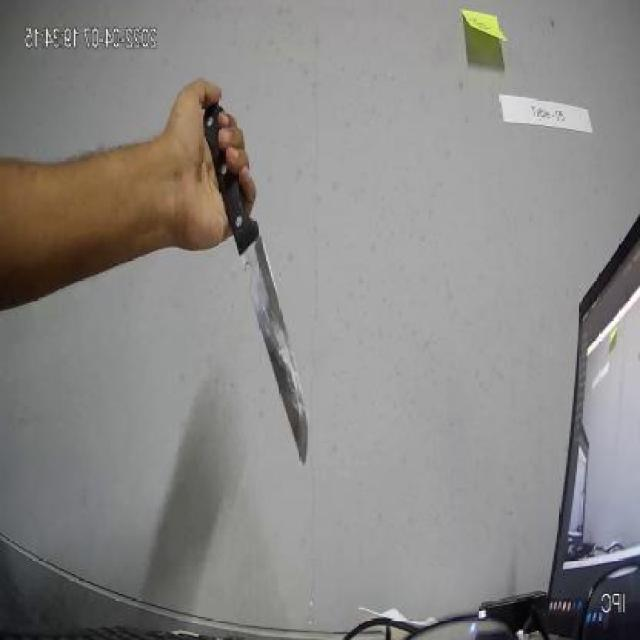knife: (205, 83, 306, 472)
